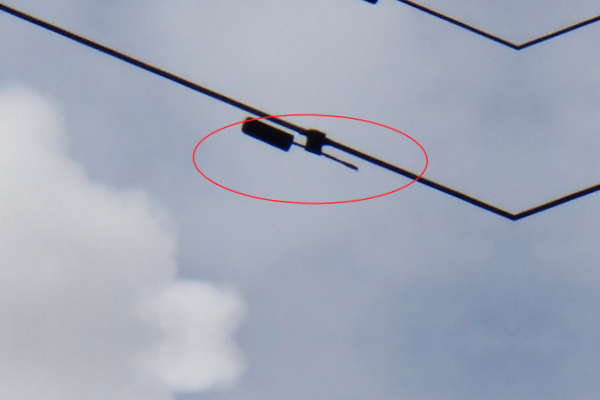damper_defect: (238, 112, 361, 174)
